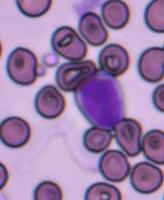L: (74, 68, 126, 130)
